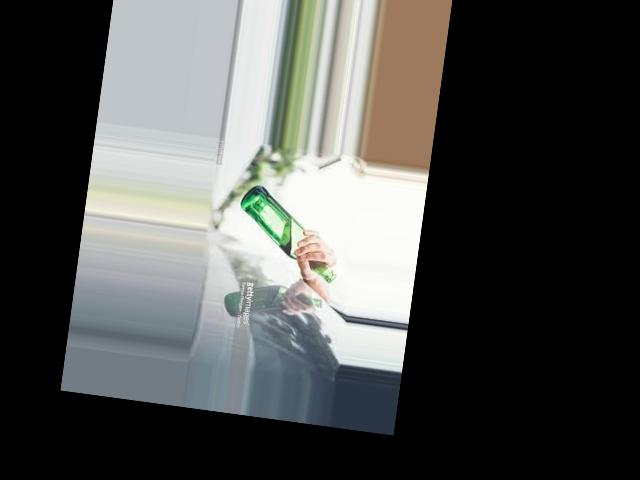beer: (230, 184, 345, 285)
